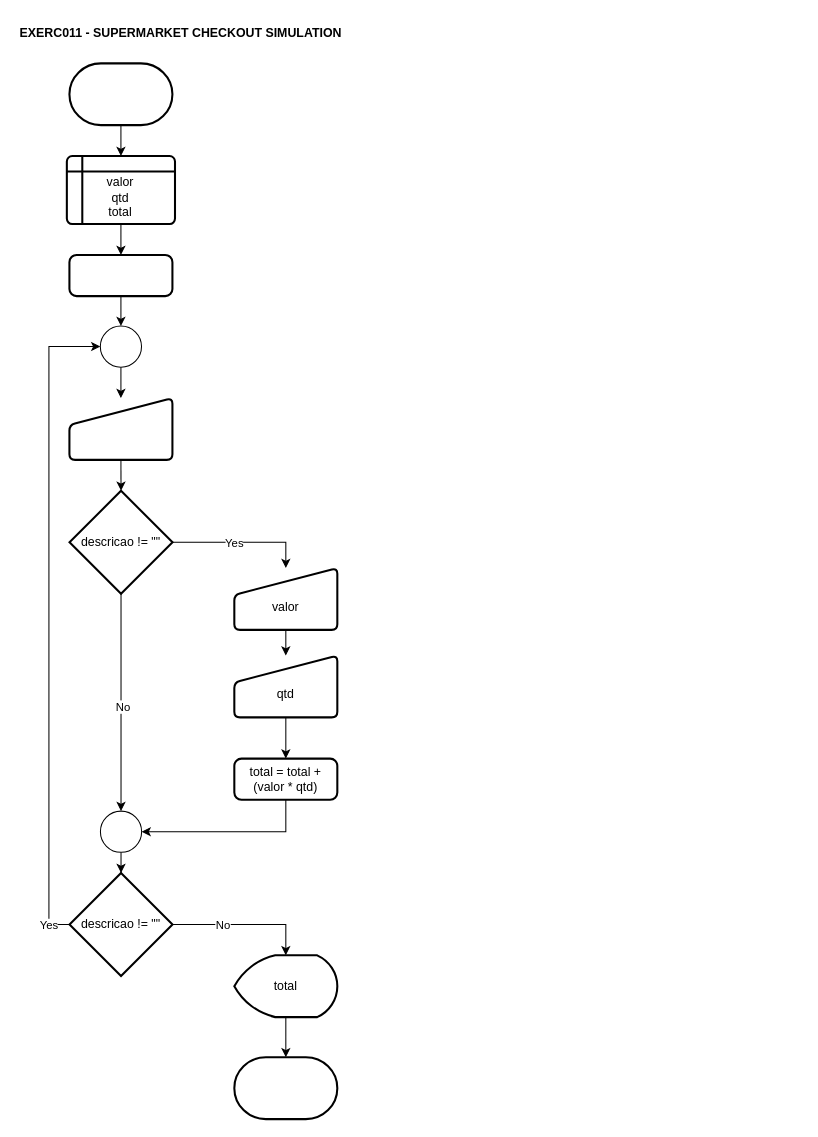
Some shapes in this 818 by 1137 pixel diagram are drawn without their labels. Here are the shapes that lost their labels. From the top down, the box of each, then its label:
(68, 62, 173, 126): Start
(68, 253, 173, 297): total = 0
(68, 397, 173, 460): descricao
(233, 1056, 338, 1120): Stop
